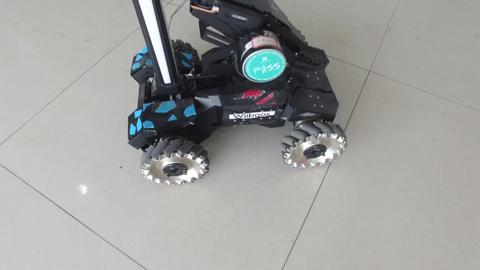chariot: (96, 11, 342, 180)
